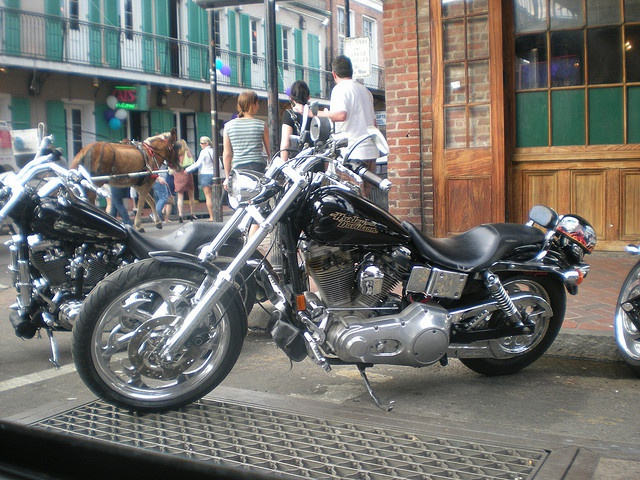non-vehicle: (73, 77, 602, 412), (9, 125, 220, 329), (607, 254, 638, 371)
